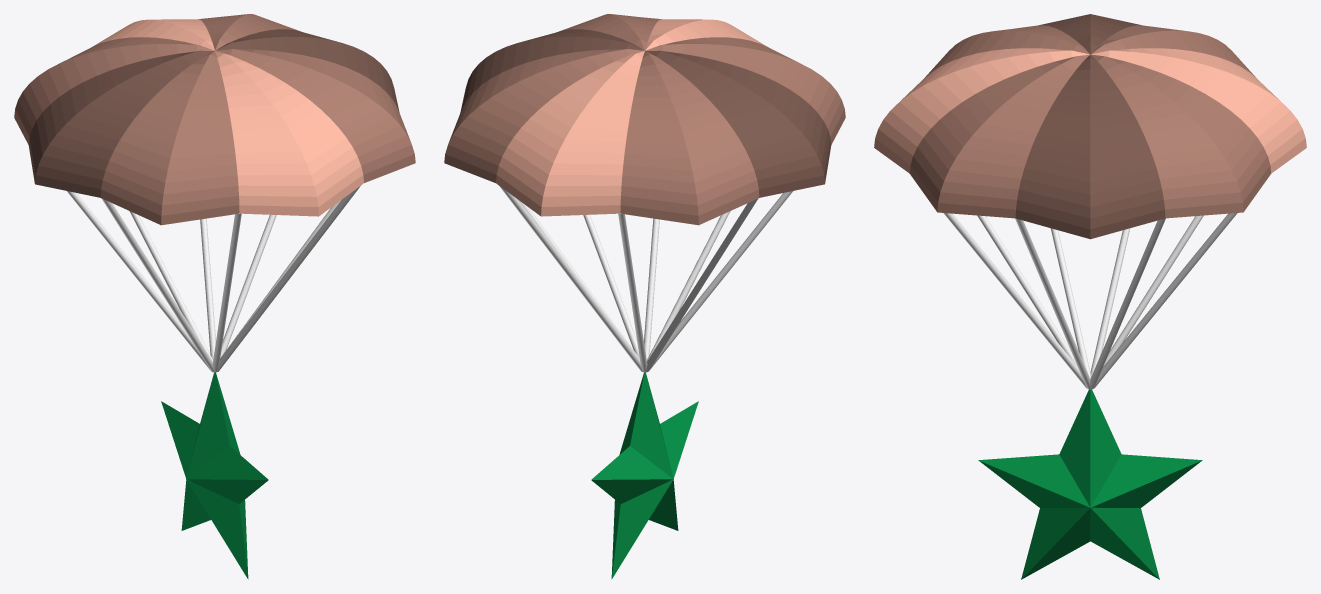
Rendered from ParachuteCrewmate.dae.
3 views of the same model, side by side, from view 1: azimuth 30°, elevation 25°; view 2: azimuth 150°, elevation 25°; view 3: azimuth 270°, elevation 25° (orthographic). The views are drawn at different scales.
Parts seen in each view (by area): view 1: Sphere.001, Cube.012, Cube.008, Cube.011, Cylinder.015, Cylinder.018, Cylinder.017, Cube.009, Cylinder.014, Cylinder.011, Cylinder.012, Cylinder.013 (+2 smaller); view 2: Sphere.001, Cube.009, Cube.008, Cube.010, Cylinder.013, Cylinder.017, Cylinder.018, Cube.012, Cylinder.012, Cylinder.019, Cylinder.014, Cylinder.015 (+2 smaller); view 3: Sphere.001, Cube.017, Cube.013, Cube.016, Cube.015, Cube.014, Cylinder.013, Cylinder.015, Cylinder.011, Cylinder.019, Cylinder.012, Cylinder.014 (+2 smaller).
Boxes of the visible parts, x1,y1,x2,y2 form: Sphere.001: (14, 14, 415, 225); Cube.012: (186, 446, 268, 503); Cube.008: (186, 372, 229, 480); Cube.011: (186, 474, 248, 579); Cylinder.015: (217, 186, 360, 371); Cylinder.018: (67, 191, 210, 370); Cylinder.017: (101, 198, 213, 372); Cube.009: (161, 401, 199, 481); Cylinder.014: (212, 213, 241, 372); Cylinder.011: (220, 214, 276, 357); Cylinder.012: (129, 211, 212, 361); Cylinder.013: (200, 218, 215, 360); Sphere.001: (444, 14, 845, 225); Cube.009: (591, 446, 673, 503); Cube.008: (630, 372, 673, 480); Cube.010: (611, 474, 673, 579); Cylinder.013: (499, 186, 642, 371); Cylinder.017: (649, 191, 792, 370); Cylinder.018: (646, 198, 758, 372); Cube.012: (660, 401, 698, 481); Cylinder.012: (618, 213, 647, 372); Cylinder.019: (583, 214, 639, 357); Cylinder.014: (647, 211, 730, 361); Cylinder.015: (644, 218, 659, 360); Sphere.001: (874, 14, 1306, 239); Cube.017: (1059, 389, 1121, 512); Cube.013: (978, 454, 1095, 508); Cube.016: (1085, 454, 1202, 508); Cube.015: (1087, 502, 1159, 579); Cube.014: (1021, 502, 1093, 579); Cylinder.013: (1094, 213, 1237, 388); Cylinder.015: (943, 213, 1086, 388); Cylinder.011: (1090, 218, 1165, 389); Cylinder.019: (1015, 218, 1090, 389); Cylinder.012: (1103, 215, 1203, 366); Cylinder.014: (977, 215, 1077, 366).
Bounding box in the file's own units: 5 × 5 × 6.75.
